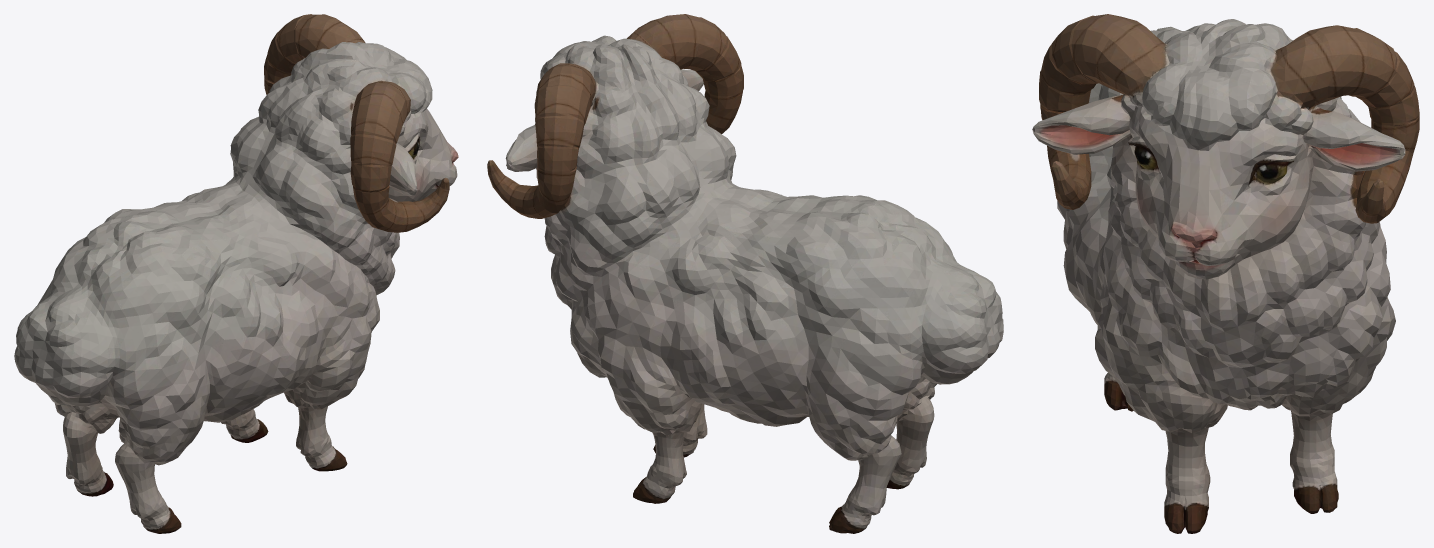
File: Ovejas.glb
3 renders of one model, left to right at view 1: azimuth 30°, elevation 25°; view 2: azimuth 150°, elevation 25°; view 3: azimuth 270°, elevation 25°, orthographic. The views are drawn at different scales.
Visible parts, largest first — view 1: tripo_node_691bc8cc-032b-4e26-bb21-77db05927796; view 2: tripo_node_691bc8cc-032b-4e26-bb21-77db05927796; view 3: tripo_node_691bc8cc-032b-4e26-bb21-77db05927796.
Part boxes in pixels (x1,y1,x2,y2): tripo_node_691bc8cc-032b-4e26-bb21-77db05927796: (14, 14, 458, 533); tripo_node_691bc8cc-032b-4e26-bb21-77db05927796: (487, 14, 1003, 533); tripo_node_691bc8cc-032b-4e26-bb21-77db05927796: (1032, 14, 1419, 533).
Size of the model in its own units: 0.9268 by 0.8053 by 0.5369.
Materials: 1 (1 with a texture image).
